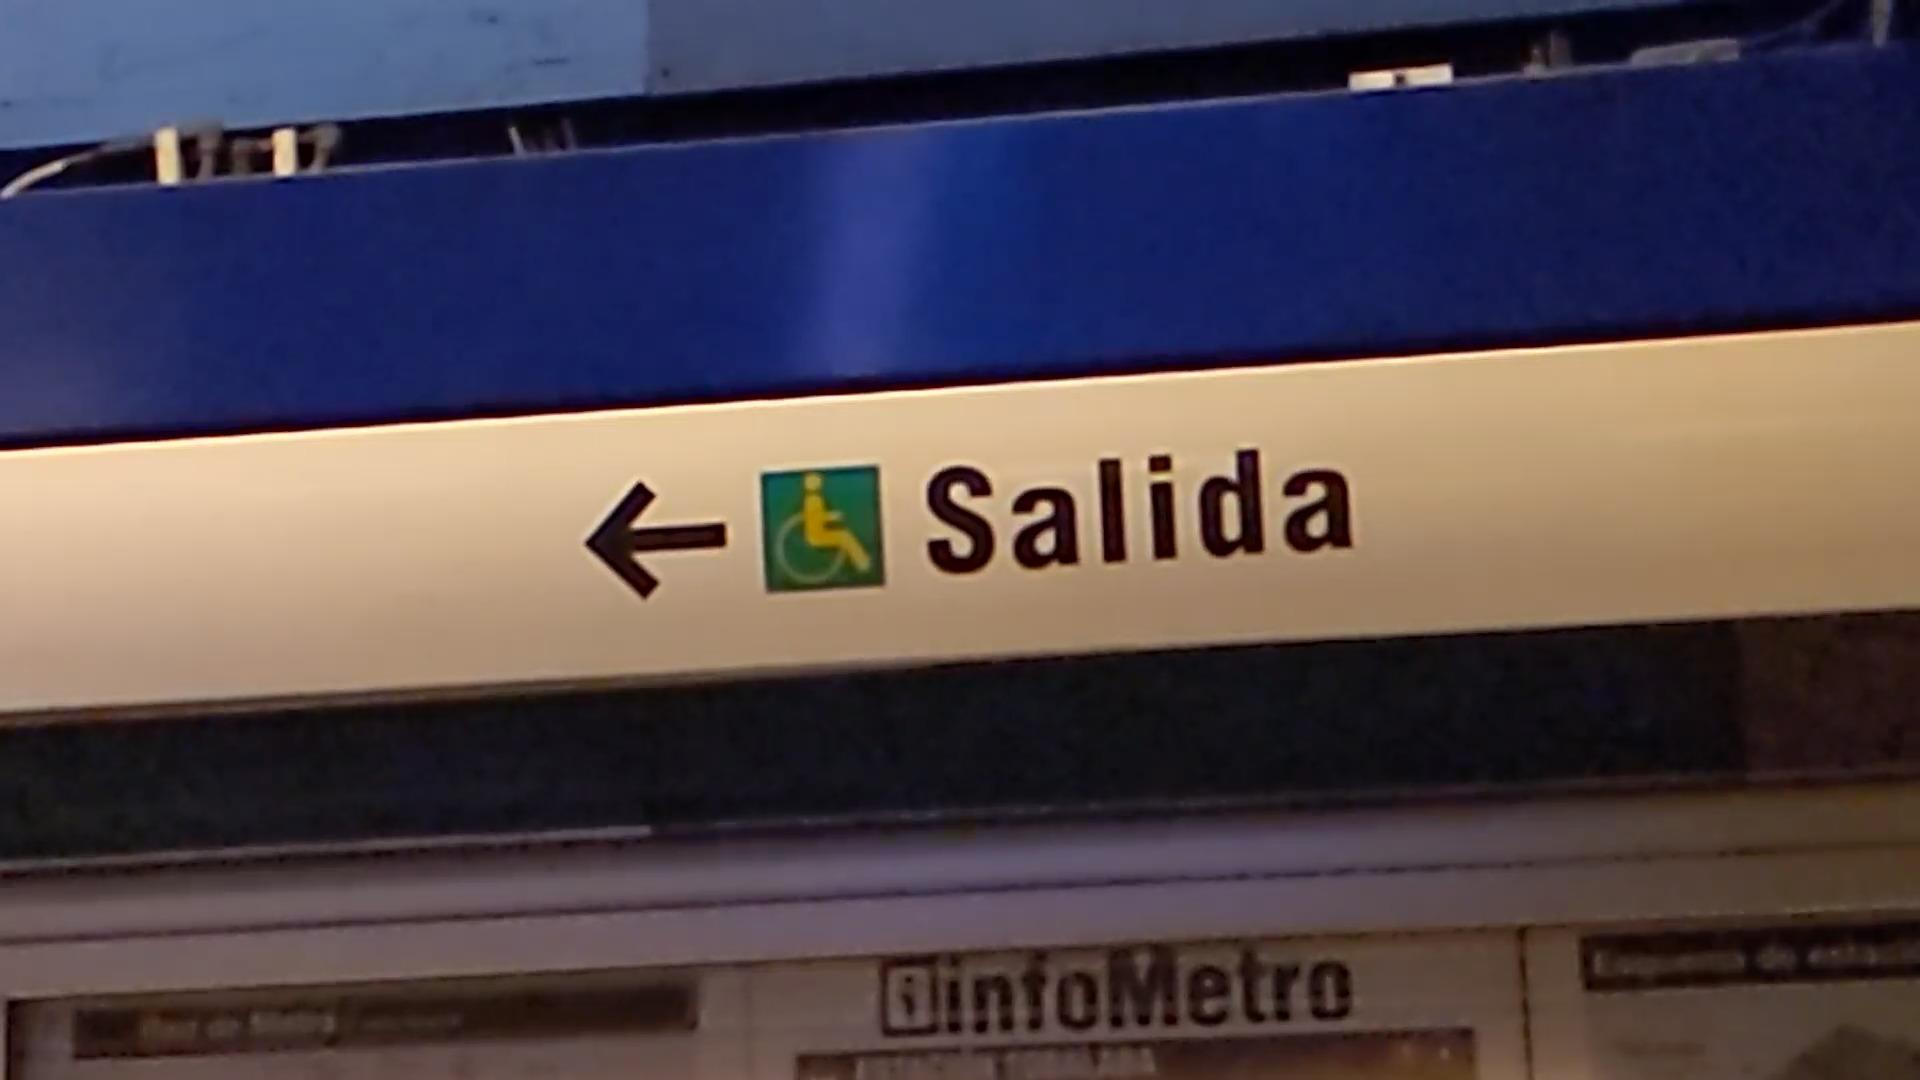handicapped symbol: (773, 472, 872, 589)
left arrow: (580, 475, 733, 605)
